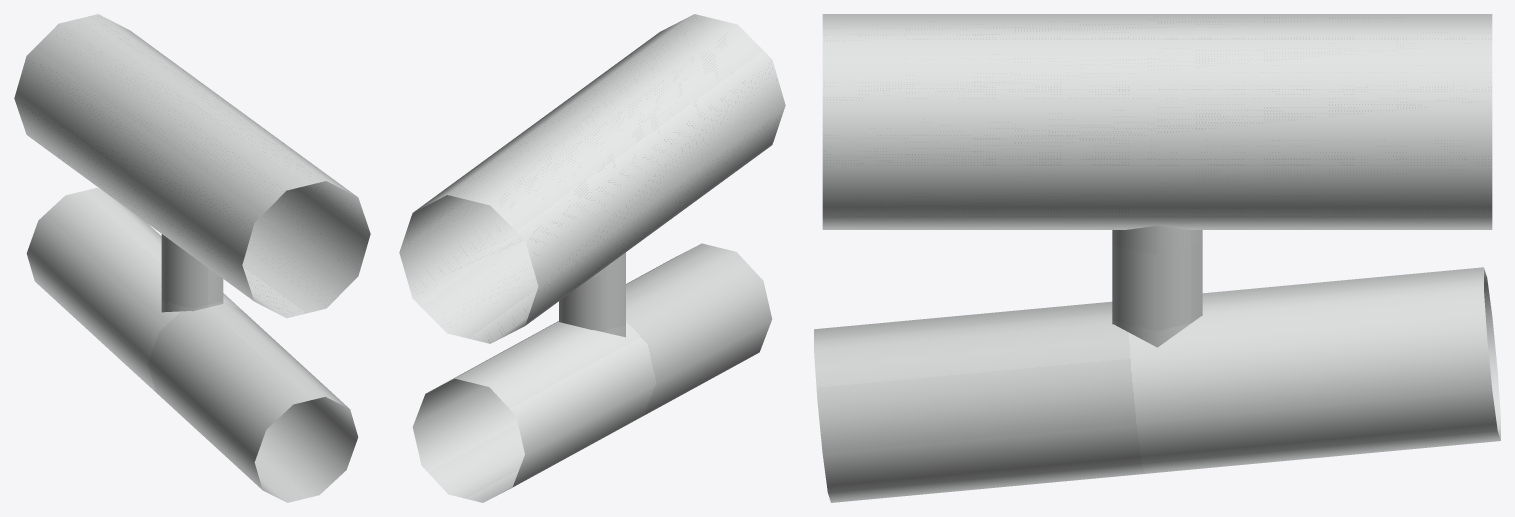
Rendered from trusssignalarm_level12_c14.obj.
3 renders of one model, left to right at view 1: azimuth 30°, elevation 25°; view 2: azimuth 150°, elevation 25°; view 3: azimuth 270°, elevation 25°, orthographic. The views are drawn at different scales.
Visible parts, largest first — view 1: trusssignalarm_level12_c14; view 2: trusssignalarm_level12_c14; view 3: trusssignalarm_level12_c14.
Boxes of the visible parts, bbox=[...] form: trusssignalarm_level12_c14: bbox=[14, 14, 370, 502]; trusssignalarm_level12_c14: bbox=[399, 14, 785, 502]; trusssignalarm_level12_c14: bbox=[814, 14, 1500, 502].
Size of the model in its own units: 0.325 by 0.7631 by 1.03.
